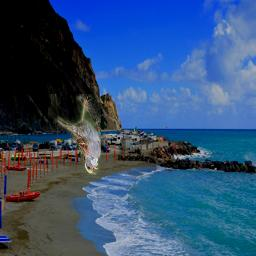Sparrow: (48, 94, 101, 175)
